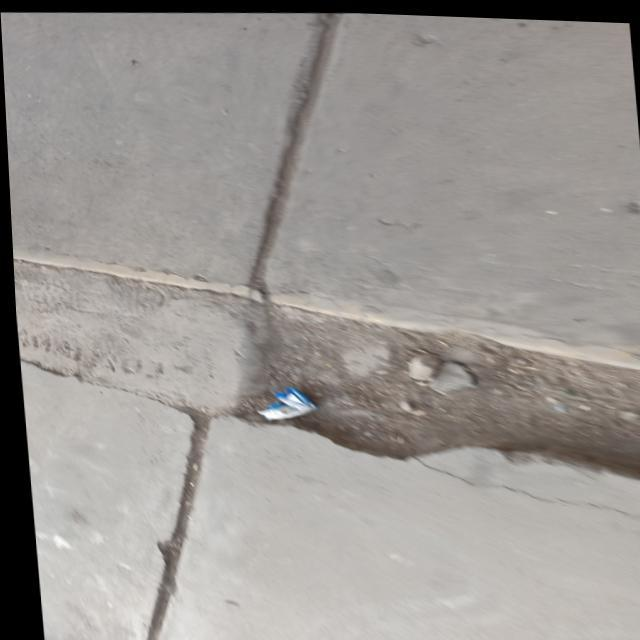hole: (212, 274, 640, 496)
